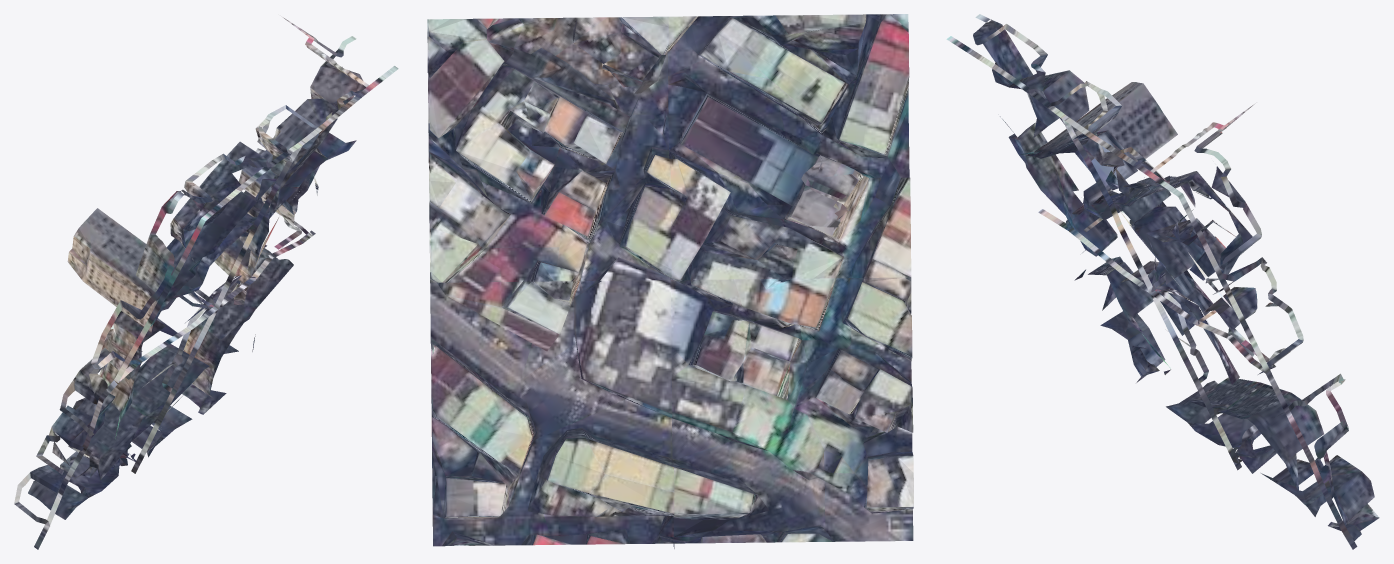
3 views of the same model, side by side, from view 1: azimuth 30°, elevation 25°; view 2: azimuth 150°, elevation 25°; view 3: azimuth 270°, elevation 25° (orthographic). The views are drawn at different scales.
Size of the model in its own units: 157 by 156 by 136.
1 material, 1 textured.
